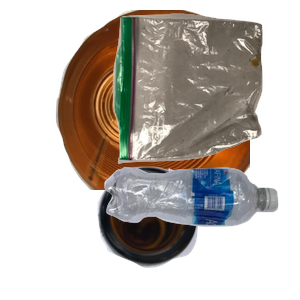glass: (95, 164, 286, 300)
metal: (53, 10, 293, 190)
plastic: (102, 165, 300, 300)
trash: (110, 11, 300, 167)
